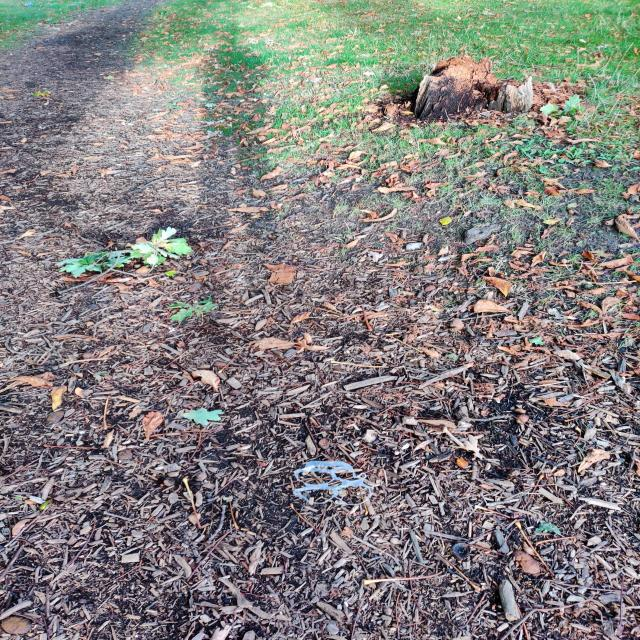litter: (293, 460, 372, 506), (23, 3, 32, 8)
